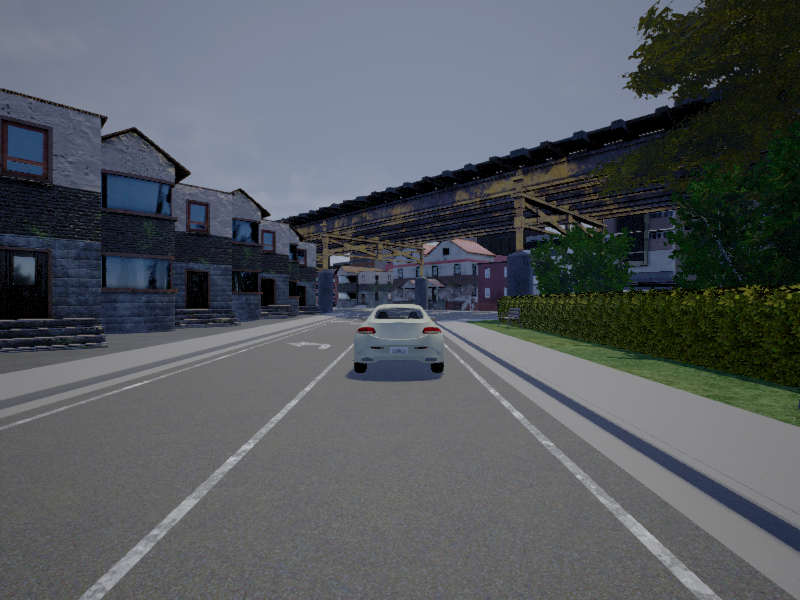Benign: (352, 301, 446, 373)
